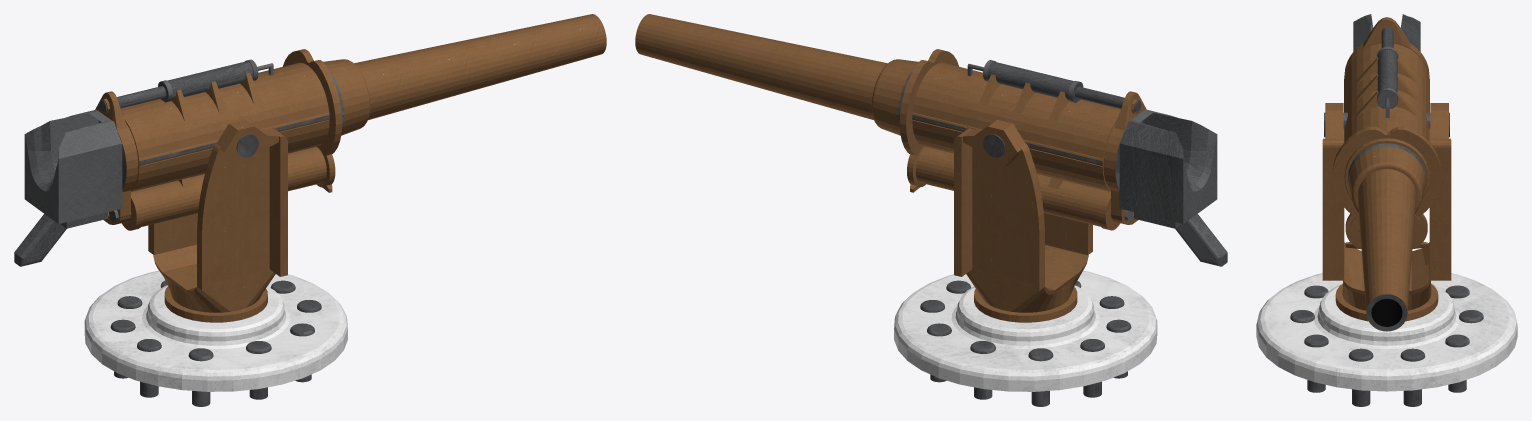
Rendered from TankCannon.fbx.
The picture shows the model from 3 angles, left to right: view 1: azimuth 30°, elevation 25°; view 2: azimuth 150°, elevation 25°; view 3: azimuth 270°, elevation 25°; orthographic projection.
Visible parts, largest first — view 1: Gun, Base, GunHorizonalMovement, Bolts; view 2: Gun, Base, GunHorizonalMovement, Bolts; view 3: Gun, Base, GunHorizonalMovement, Bolts.
Part boxes in pixels (box(x1,y1,x2,y2)): Gun: box(14, 14, 606, 266); Base: box(84, 270, 347, 391); GunHorizonalMovement: box(148, 119, 287, 322); Bolts: box(110, 280, 321, 406); Gun: box(635, 14, 1227, 266); Base: box(894, 270, 1157, 391); GunHorizonalMovement: box(954, 119, 1092, 322); Bolts: box(920, 280, 1131, 406); Gun: box(1332, 14, 1441, 331); Base: box(1256, 273, 1517, 391); GunHorizonalMovement: box(1322, 103, 1451, 321); Bolts: box(1290, 285, 1483, 406).
Bounding box in the file's own units: 507 × 249 × 200.
